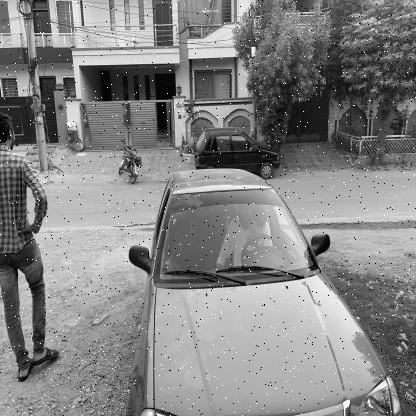no_seatbelt: (234, 204, 264, 254)
